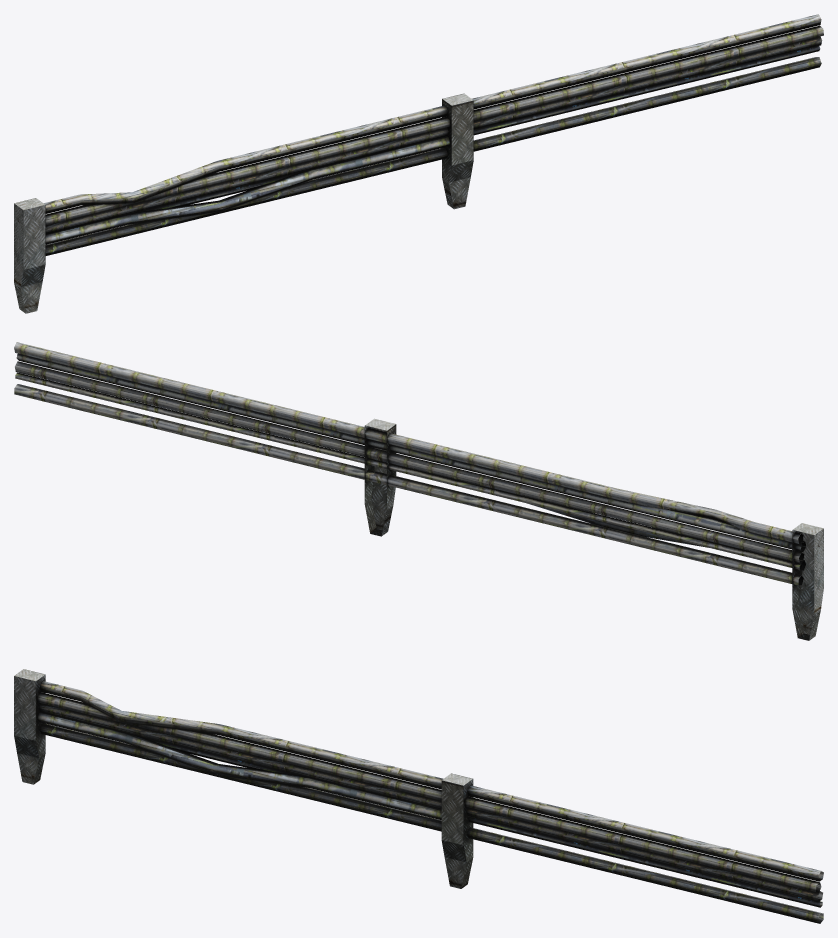
The model's file is Cables01.fbx.
The picture shows the model from 3 angles, top to bottom: view 1: azimuth 30°, elevation 25°; view 2: azimuth 150°, elevation 25°; view 3: azimuth 330°, elevation 25°; orthographic projection.
Visible parts, largest first — view 1: Plane.198; view 2: Plane.198; view 3: Plane.198.
Boxes of the visible parts, x1,y1,x2,y2 form: Plane.198: [14, 14, 823, 313]; Plane.198: [14, 342, 823, 640]; Plane.198: [14, 669, 823, 923].
Bounding box in the file's own units: 406 × 51.83 × 11.21.
